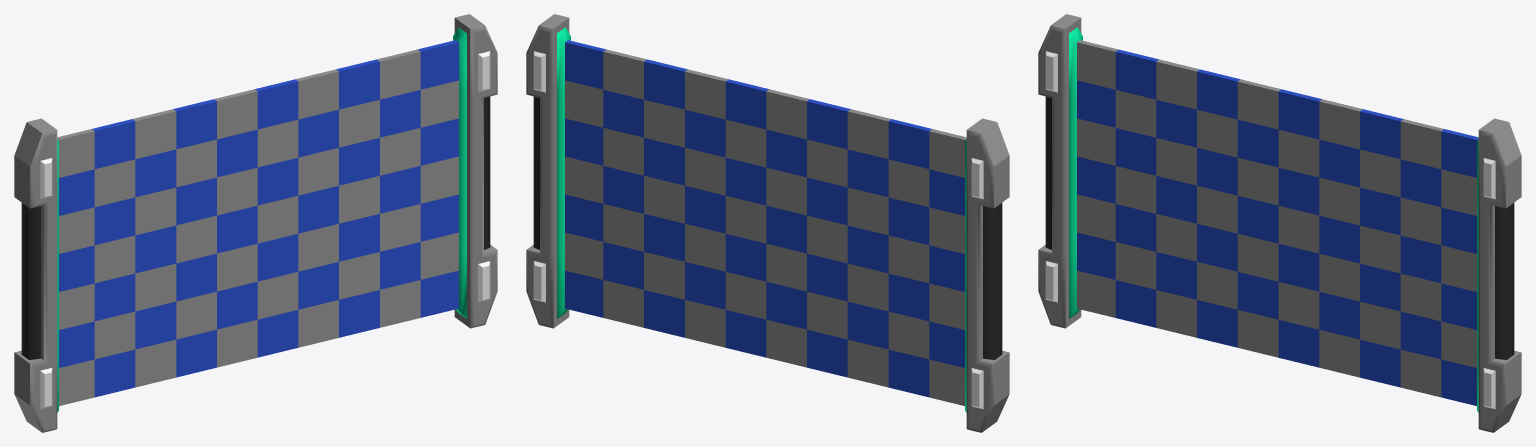
Rendered from ForceField.FBX.
3 views of the same model, side by side, from view 1: azimuth 30°, elevation 25°; view 2: azimuth 150°, elevation 25°; view 3: azimuth 330°, elevation 25° (orthographic).
Visible parts, largest first — view 1: Barrier, Pillar2, Pillar1; view 2: Barrier, Pillar2, Pillar1; view 3: Barrier, Pillar1, Pillar2.
Part boxes in pixels (<box>): Barrier: <box>57,40,458,405</box>; Pillar2: <box>14,118,58,432</box>; Pillar1: <box>453,14,497,328</box>; Barrier: <box>565,40,966,405</box>; Pillar2: <box>965,118,1009,432</box>; Pillar1: <box>526,14,570,328</box>; Barrier: <box>1077,40,1478,405</box>; Pillar1: <box>1477,118,1521,432</box>; Pillar2: <box>1038,14,1082,328</box>.
Size of the model in its own units: 172 by 105 by 14.06.
